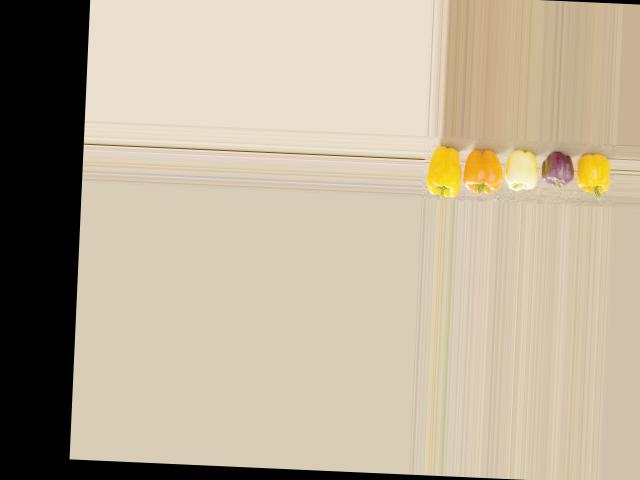bell_pepper: (578, 144, 615, 201)
